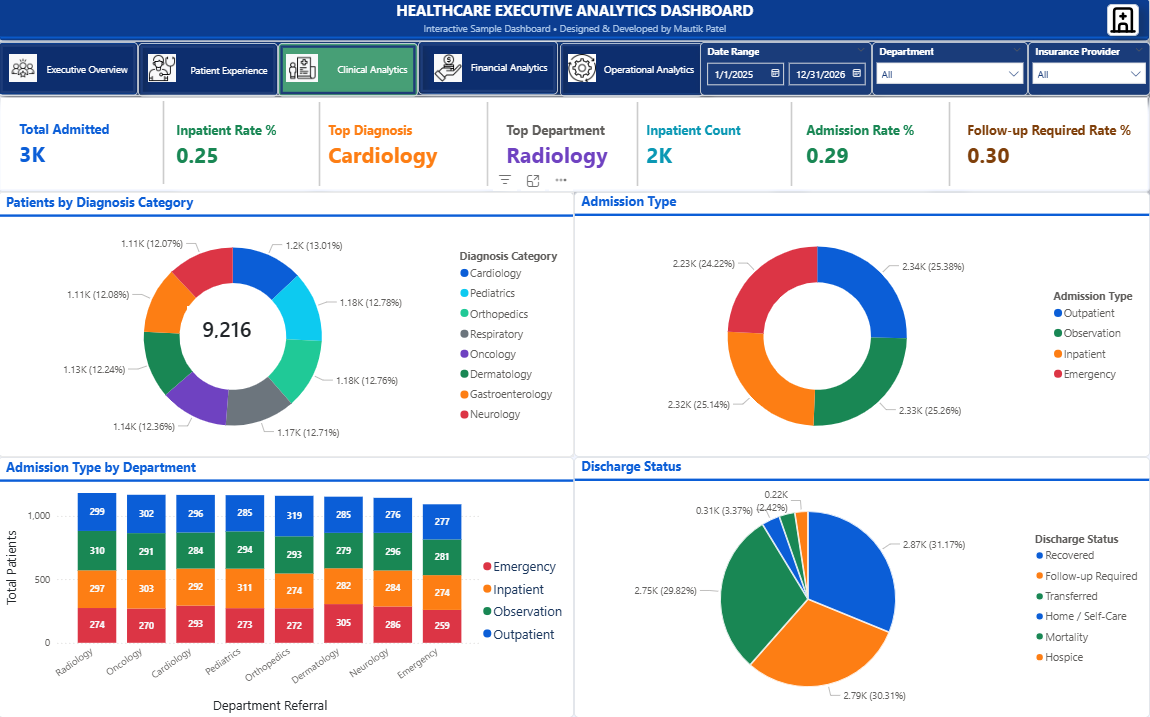

The dashboard page shown, as its layout file describes it:
{"tool":"powerbi","page":{"name":"Clinical Analytics","canvas":[1440,900],"ordinal":2},"visuals":[{"type":"shape","title":"HEALTHCARE EXECUTIVE ANALYTICS DASHBOARD","box":[0,0,1440,54.3],"z":0},{"type":"image","box":[1385.7,7.1,40,40],"z":1000},{"type":"shape","box":[0,53.8,1440,67.5],"z":2000},{"type":"actionButton","box":[0,55,175,67],"z":3000},{"type":"actionButton","box":[175,56.2,175,67],"z":4000},{"type":"actionButton","box":[350,56.2,175,67],"z":5000},{"type":"actionButton","box":[525,53.8,175,67],"z":6000},{"type":"actionButton","box":[702.5,56.2,178.8,67],"z":7000},{"type":"slicer","fields":{"Values":["DateTable.Date"]},"box":[877.5,55,215,67],"z":8000},{"type":"slicer","fields":{"Values":["HealthcareData.Department Referral"]},"box":[1092.5,55,195,67],"z":9000},{"type":"slicer","fields":{"Values":["HealthcareData.Insurance Provider"]},"box":[1287.5,55,152.5,67],"z":10000},{"type":"shape","box":[0,121.2,1440,121.2],"z":11000},{"type":"shape","box":[191.2,128.8,31.2,103.8],"z":12000},{"type":"shape","box":[395,130,13.8,105],"z":13000},{"type":"shape","box":[608.8,130,6.2,105],"z":14000},{"type":"cardVisual","fields":{"Data":["Measures (3).Total Admitted"]},"box":[22.5,142.5,152.5,78.8],"z":15000},{"type":"cardVisual","fields":{"Data":["Measures (3).Inpatient Rate %"]},"box":[218.8,130,161.2,105],"z":16000},{"type":"cardVisual","fields":{"Data":["Measures (3).Top Diagnosis"]},"box":[408.8,130,190,105],"z":17000},{"type":"cardVisual","fields":{"Data":["Measures (3).Top Department"]},"box":[631.2,130,161.2,105],"z":18000},{"type":"image","box":[712.5,70,35,35],"z":19000},{"type":"image","box":[13.8,70,35,35],"z":20000},{"type":"image","box":[187.5,70,35,35],"z":21000},{"type":"image","box":[360,70,40,35],"z":22000},{"type":"image","box":[545,70,35,35],"z":23000},{"type":"donutChart","title":"Patients by Diagnosis Category","fields":{"Category":["HealthcareData.Diagnosis Category"],"Y":["Measures (3).Total Patients"]},"box":[0,242.5,720,331.2],"z":24000},{"type":"donutChart","title":"Admission Type","fields":{"Y":["Measures (3).Total Patients"],"Category":["HealthcareData.Admission Type"]},"box":[720,242.5,720,331.2],"z":25000},{"type":"columnChart","title":"Admission Type by Department","fields":{"Category":["HealthcareData.Department Referral"],"Y":["Measures (3).Total Patients"],"Series":["HealthcareData.Admission Type"]},"box":[0,573.8,720,326.2],"z":26000},{"type":"cardVisual","fields":{"Data":["Measures (3).Inpatient Count"]},"box":[806.2,130,152.5,105],"z":27000},{"type":"cardVisual","fields":{"Data":["Measures (3).Admission Rate %"]},"box":[1006.2,130,147.5,105],"z":28000},{"type":"shape","box":[792.5,130,13.8,105],"z":29000},{"type":"shape","box":[985,130,13.8,105],"z":30000},{"type":"cardVisual","fields":{"Data":["Measures (3).KPI Card — Total Patients"]},"box":[236.2,385,105,53.8],"z":31000},{"type":"pieChart","title":"Discharge Status","fields":{"Y":["Measures (3).Total Patients"],"Category":["HealthcareData.Discharge Status"]},"box":[720,573.8,720,326.2],"z":32000},{"type":"cardVisual","fields":{"Data":["Measures (3).Follow-up Required Rate %"]},"box":[1207.5,130,218.8,105],"z":33000},{"type":"shape","box":[1182.5,130,13.8,105],"z":34000}]}

Visuals, with their boxes in screenshot pixels (x1, y1, x2, y2), scaled from the page's 1440x900 canvas onto the 1150x717 screenshot:
"HEALTHCARE EXECUTIVE ANALYTICS DASHBOARD" shape: (left=0, top=0, right=1149, bottom=43)
image: (left=1107, top=6, right=1139, bottom=38)
shape: (left=0, top=43, right=1149, bottom=97)
actionButton: (left=0, top=44, right=140, bottom=97)
actionButton: (left=140, top=45, right=280, bottom=98)
actionButton: (left=280, top=45, right=419, bottom=98)
actionButton: (left=419, top=43, right=559, bottom=96)
actionButton: (left=561, top=45, right=704, bottom=98)
slicer - DateTable.Date: (left=701, top=44, right=872, bottom=97)
slicer - HealthcareData.Department Referral: (left=872, top=44, right=1028, bottom=97)
slicer - HealthcareData.Insurance Provider: (left=1028, top=44, right=1149, bottom=97)
shape: (left=0, top=97, right=1149, bottom=193)
shape: (left=153, top=103, right=178, bottom=185)
shape: (left=315, top=104, right=326, bottom=187)
shape: (left=486, top=104, right=491, bottom=187)
cardVisual - Measures (3).Total Admitted: (left=18, top=114, right=140, bottom=176)
cardVisual - Measures (3).Inpatient Rate %: (left=175, top=104, right=303, bottom=187)
cardVisual - Measures (3).Top Diagnosis: (left=326, top=104, right=478, bottom=187)
cardVisual - Measures (3).Top Department: (left=504, top=104, right=633, bottom=187)
image: (left=569, top=56, right=597, bottom=84)
image: (left=11, top=56, right=39, bottom=84)
image: (left=150, top=56, right=178, bottom=84)
image: (left=288, top=56, right=319, bottom=84)
image: (left=435, top=56, right=463, bottom=84)
"Patients by Diagnosis Category" donutChart: (left=0, top=193, right=575, bottom=457)
"Admission Type" donutChart: (left=575, top=193, right=1149, bottom=457)
"Admission Type by Department" columnChart: (left=0, top=457, right=575, bottom=716)
cardVisual - Measures (3).Inpatient Count: (left=644, top=104, right=766, bottom=187)
cardVisual - Measures (3).Admission Rate %: (left=804, top=104, right=921, bottom=187)
shape: (left=633, top=104, right=644, bottom=187)
shape: (left=787, top=104, right=798, bottom=187)
cardVisual - Measures (3).KPI Card — Total Patients: (left=189, top=307, right=272, bottom=350)
"Discharge Status" pieChart: (left=575, top=457, right=1149, bottom=716)
cardVisual - Measures (3).Follow-up Required Rate %: (left=964, top=104, right=1139, bottom=187)
shape: (left=944, top=104, right=955, bottom=187)
